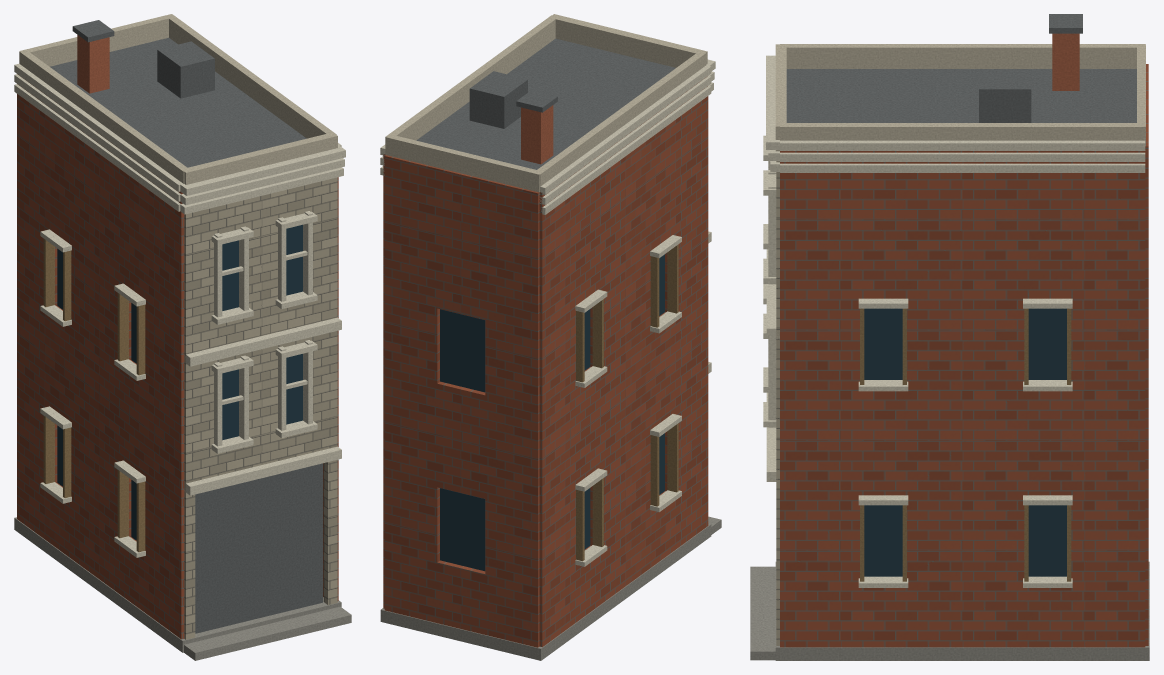
The model's file is WHSE20_lod2.glb.
3 renders of one model, left to right at view 1: azimuth 30°, elevation 25°; view 2: azimuth 150°, elevation 25°; view 3: azimuth 270°, elevation 25°, orthographic. The views are drawn at different scales.
Parts seen in each view (by area): view 1: WHSE20_LOD2; view 2: WHSE20_LOD2; view 3: WHSE20_LOD2.
Boxes of the visible parts, x1,y1,x2,y2 form: WHSE20_LOD2: (14,14,351,660); WHSE20_LOD2: (380,14,721,660); WHSE20_LOD2: (750,14,1149,660).
Bounding box in the file's own units: 3.71 × 10.45 × 6.57.
10 materials, 8 textured.
